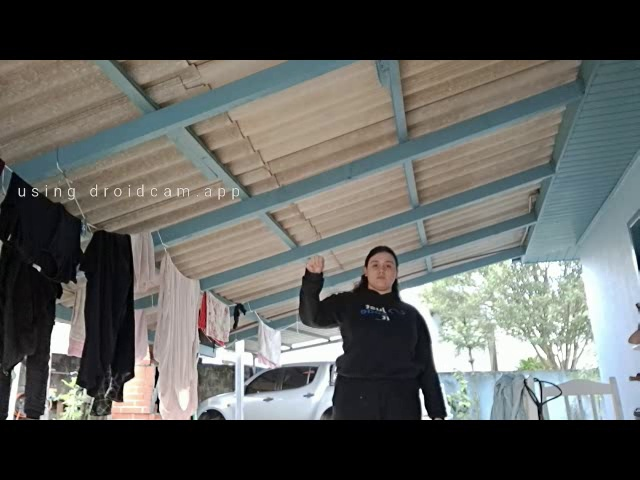MULHER: (356, 238, 402, 294)
SOS: (292, 239, 334, 284)
